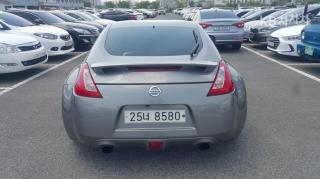0: (174, 110, 181, 121)
2: (129, 111, 136, 122)
5: (136, 110, 143, 122), (161, 110, 167, 121)
8: (154, 110, 161, 121), (167, 111, 174, 121)
너: (142, 111, 151, 121)
